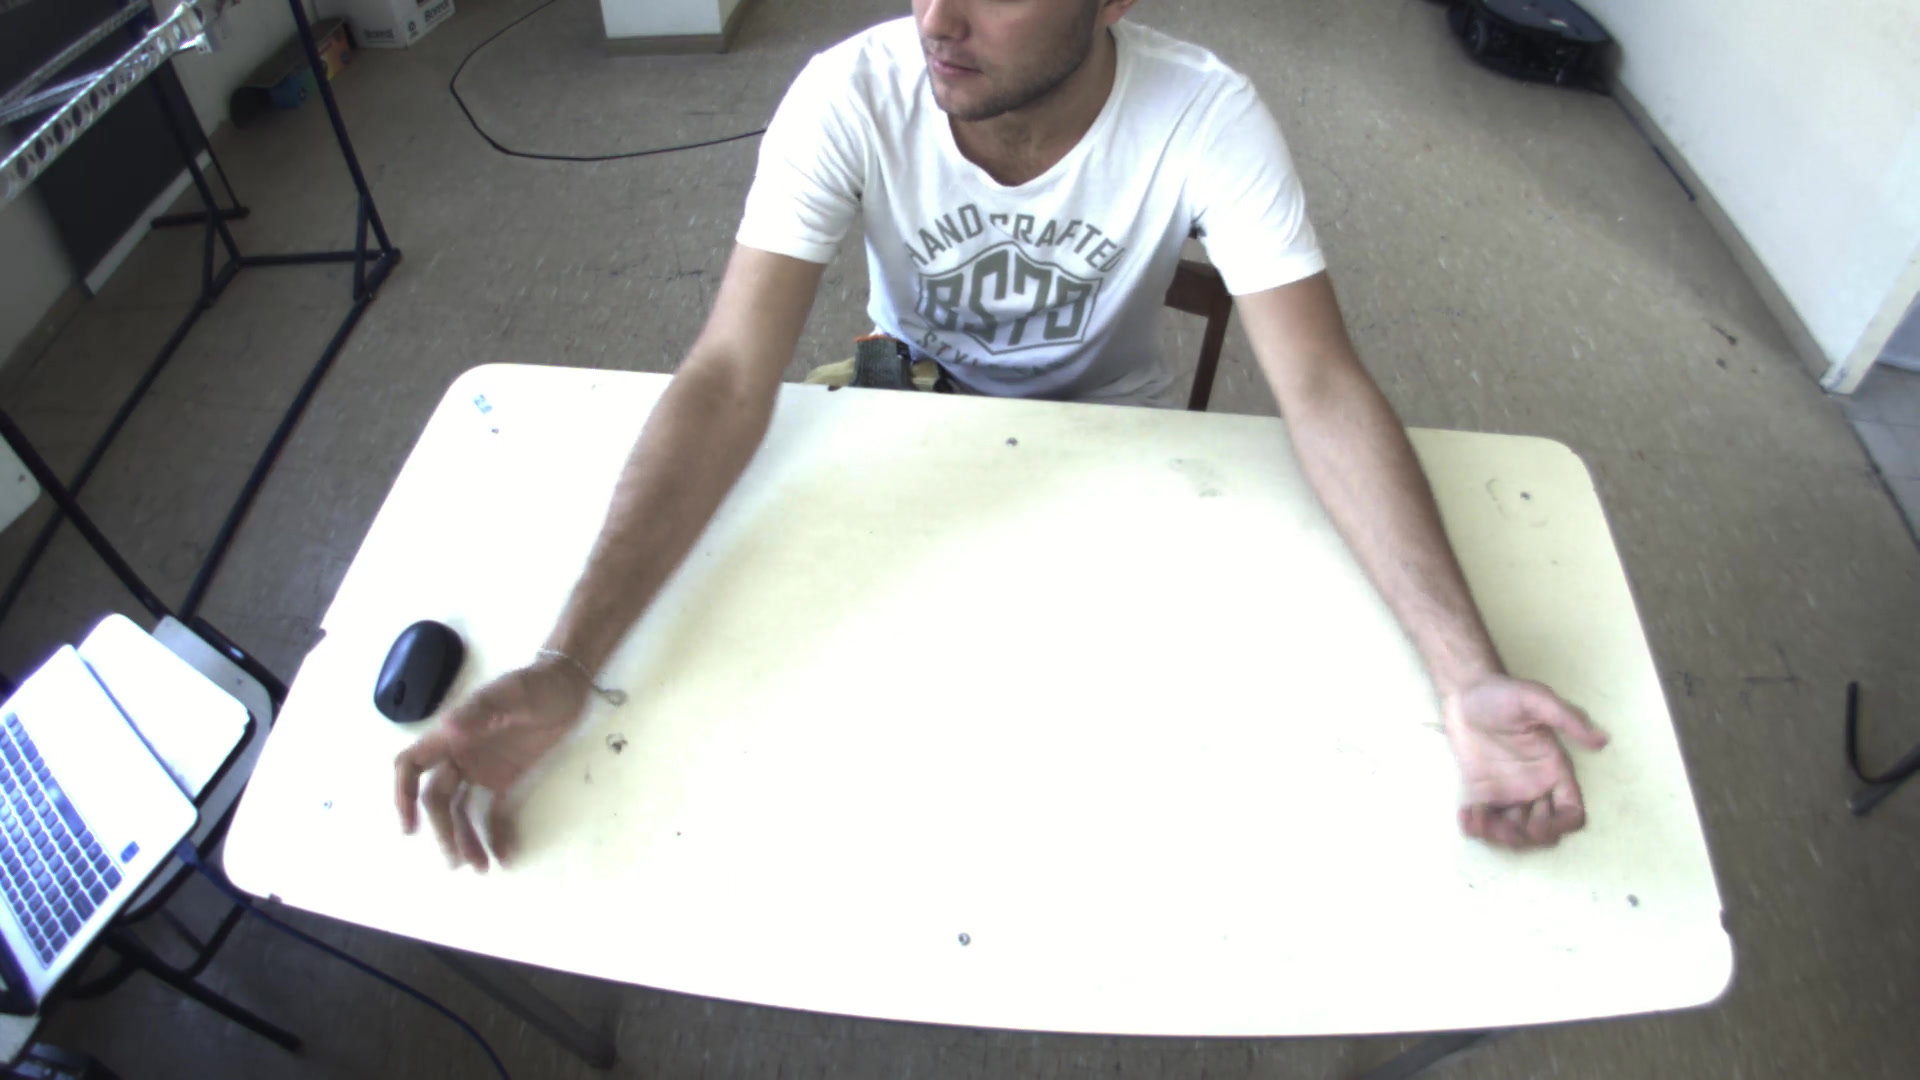hand: (365, 646, 608, 882), (1423, 662, 1623, 851)
